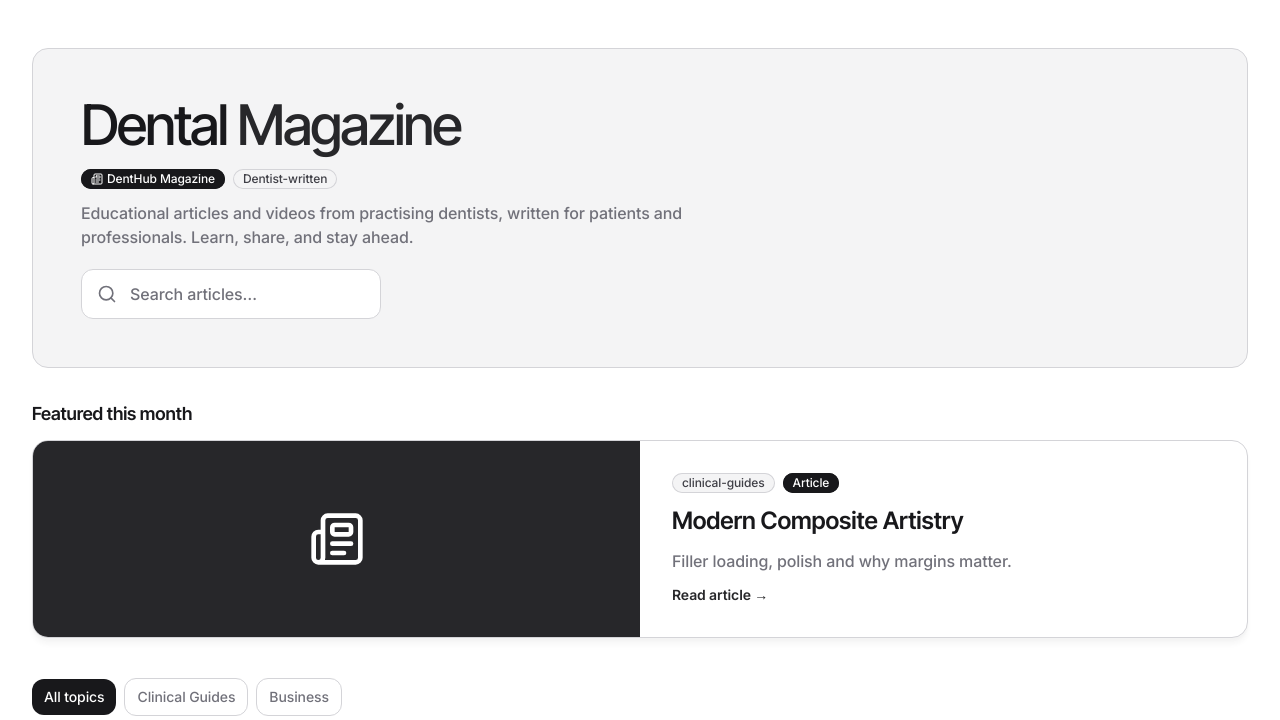
Test case: Magazine › features one article with a working viewer
Click the button named "read article →".
click(640, 539)  # box [32,440,1248,638]
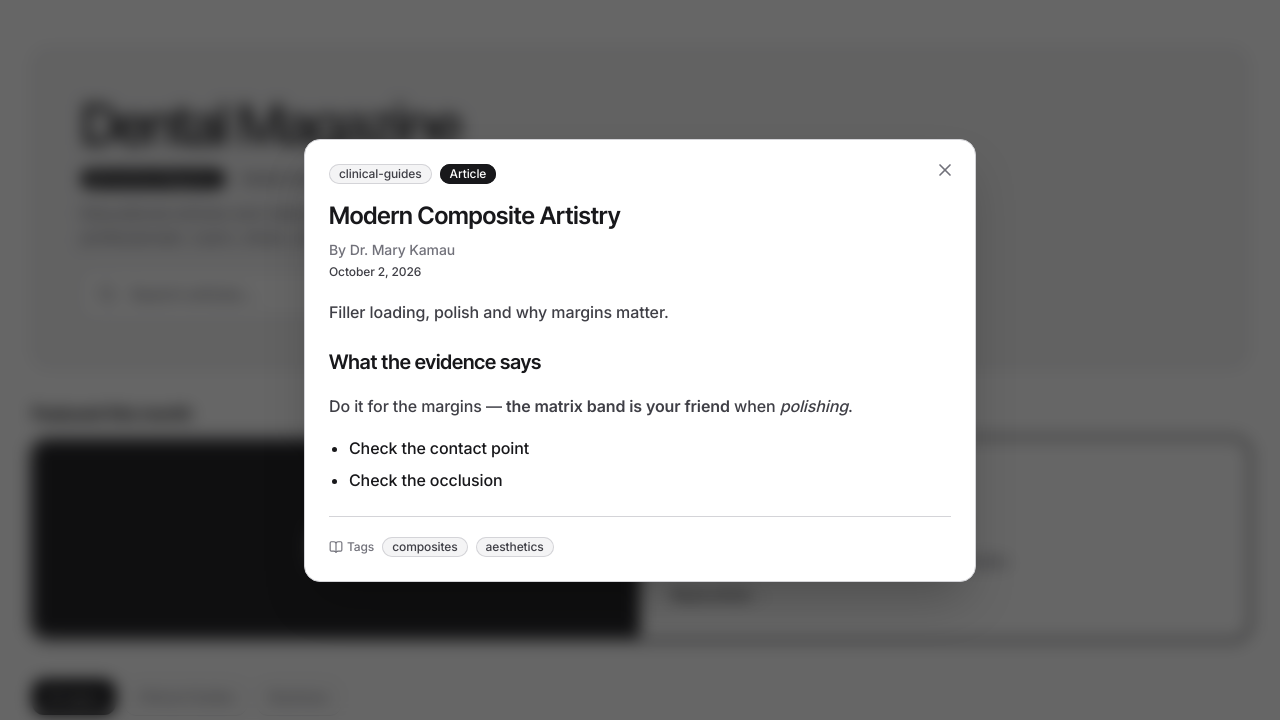
Result: the heading "What the evidence says" is shown at [329,350,541,374]
Result: the text "the matrix band is your friend" is shown at [506,396,730,416]
